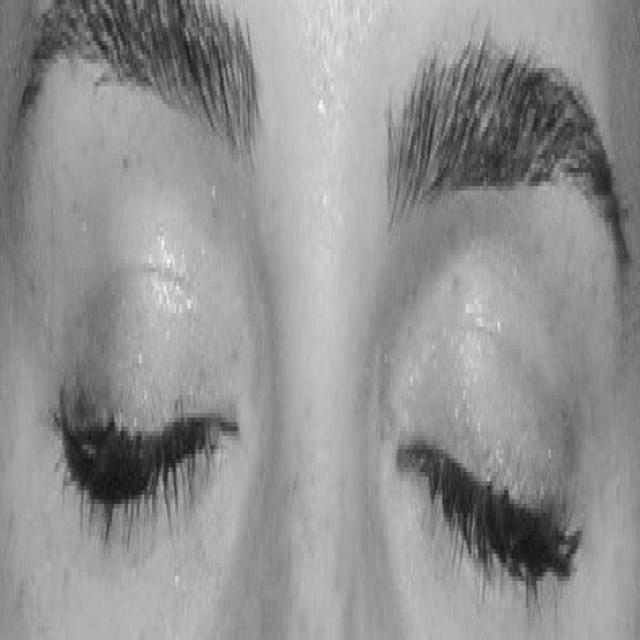real: (26, 54, 616, 609)
